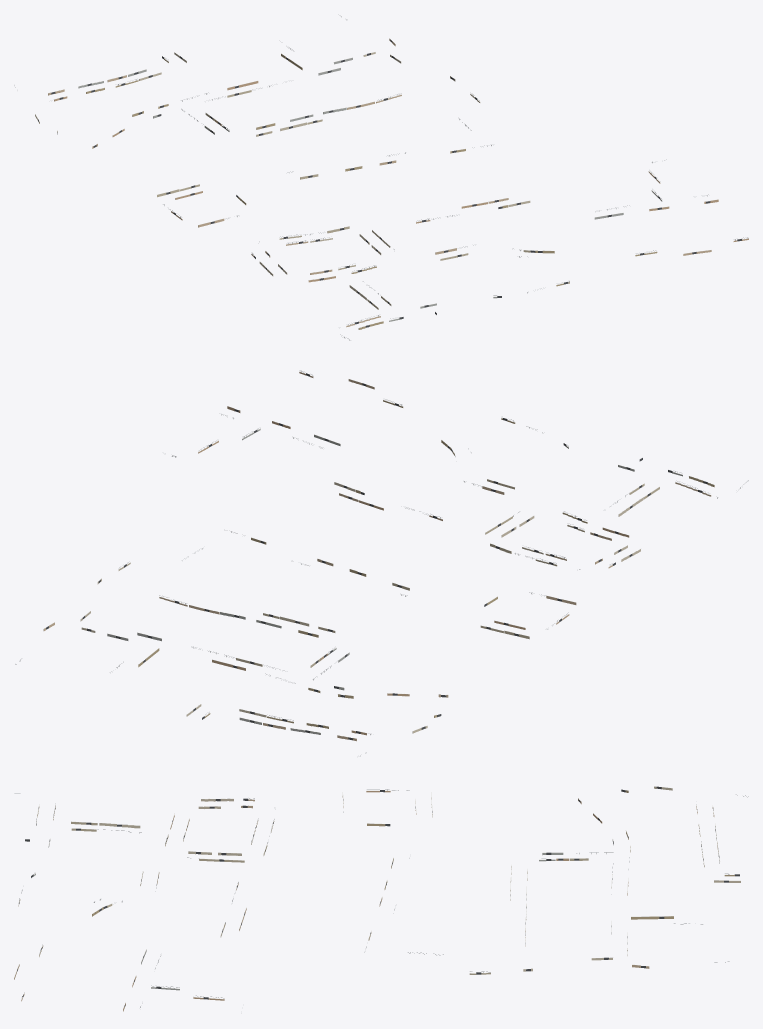
3 views of the same model, one above another, from view 1: azimuth 30°, elevation 25°; view 2: azimuth 150°, elevation 25°; view 3: azimuth 270°, elevation 25° (orthographic). The views are drawn at different scales.
Visible parts, largest first — view 1: nd_st_m13_m9_lod0; view 2: nd_st_m13_m9_lod0; view 3: nd_st_m13_m9_lod0.
Boxes of the visible parts, bbox=[...] form: nd_st_m13_m9_lod0: bbox=[14, 15, 748, 340]; nd_st_m13_m9_lod0: bbox=[15, 370, 748, 756]; nd_st_m13_m9_lod0: bbox=[14, 786, 748, 1011].
Size of what is drawn, in the model's own units: 357 by 7.87 by 492.
